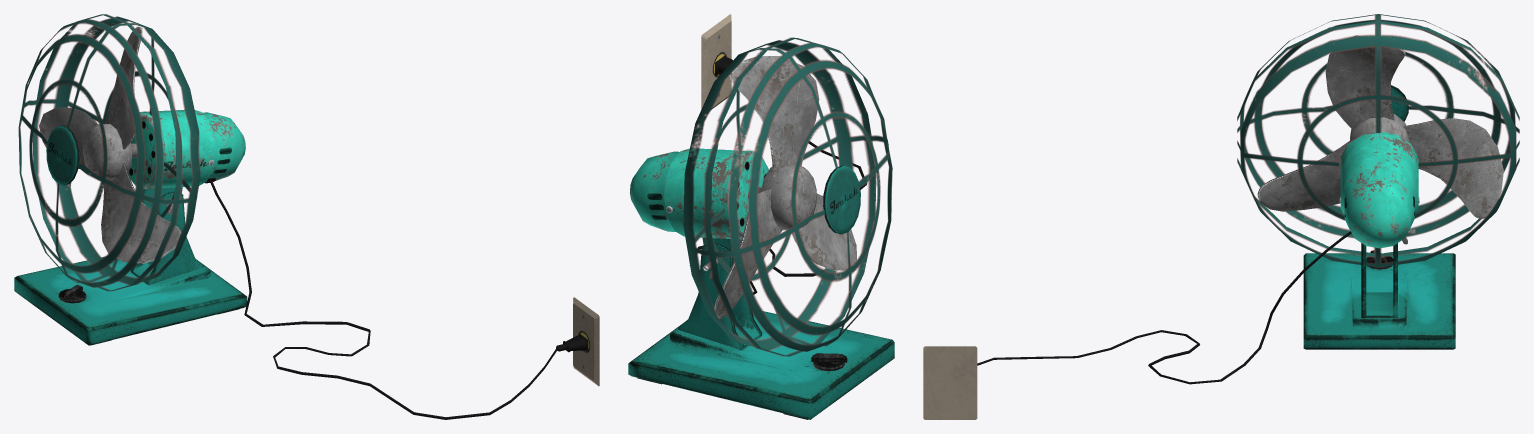
Rendered from fan.glb.
The picture shows the model from 3 angles, left to right: view 1: azimuth 30°, elevation 25°; view 2: azimuth 150°, elevation 25°; view 3: azimuth 270°, elevation 25°; orthographic projection. The views are drawn at different scales.
Visible parts, largest first — view 1: polySurface40, polySurface30, polySurface20, polySurface27, polySurface26, polySurface39, polySurface36, polySurface33; view 2: polySurface40, polySurface30, polySurface20, polySurface27, polySurface39, polySurface33, polySurface36, polySurface26, polySurface23, polySurface22; view 3: polySurface40, polySurface20, polySurface30, polySurface27, polySurface36, polySurface26, polySurface39.
Boxes of the visible parts, box(x1,y1,x2,y2) form: polySurface40: box(18, 14, 200, 291); polySurface30: box(14, 256, 247, 345); polySurface20: box(39, 26, 181, 263); polySurface27: box(128, 109, 245, 188); polySurface26: box(210, 181, 557, 419); polySurface39: box(130, 189, 203, 284); polySurface36: box(573, 297, 599, 386); polySurface33: box(46, 125, 79, 185); polySurface40: box(683, 37, 892, 356); polySurface30: box(628, 311, 894, 419); polySurface20: box(714, 56, 856, 318); polySurface27: box(630, 148, 768, 239); polySurface39: box(678, 243, 762, 350); polySurface33: box(823, 165, 860, 234); polySurface36: box(701, 14, 731, 114); polySurface26: box(689, 141, 867, 294); polySurface23: box(811, 353, 847, 362); polySurface22: box(813, 361, 844, 371); polySurface40: box(1237, 14, 1519, 267); polySurface20: box(1257, 35, 1503, 218); polySurface30: box(1303, 253, 1455, 349); polySurface27: box(1340, 131, 1418, 248); polySurface36: box(923, 346, 977, 419); polySurface26: box(977, 231, 1351, 384); polySurface39: box(1361, 243, 1397, 317).
Bounding box in the file's own units: 13.04 × 10.72 × 19.91.
8 materials, 8 textured.
